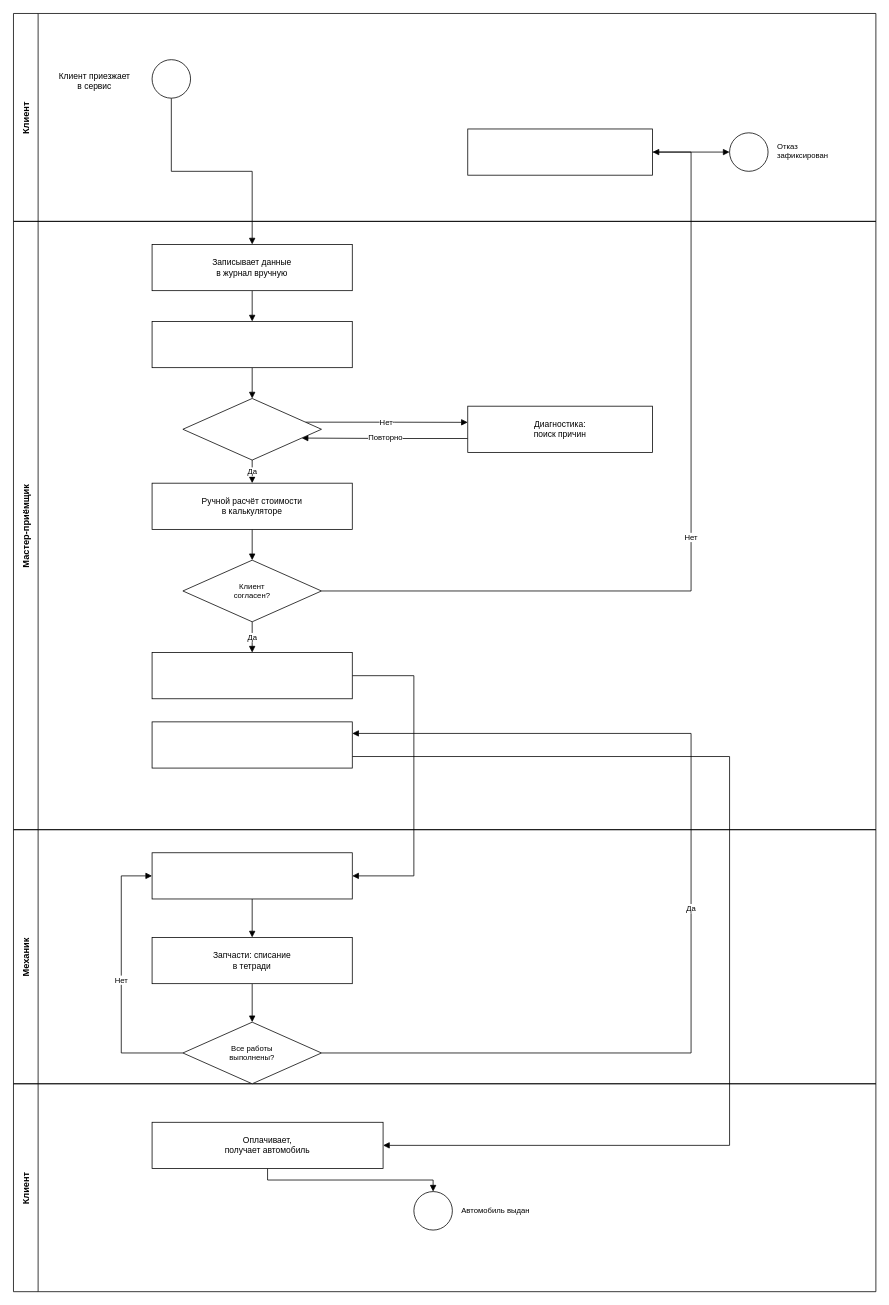
The diagram is 889 pixels wide and 1305 high, and some of its shapes have lost their labels. Here are the shapes that lost their labels. From the top down, the centre of each, then its label:
the point at 560,151: Отказ от работ (уезжает)
the point at 251,344: Осматривает автомобиль, фиксирует жалобы
the point at 251,429: Неисправности понятны?
the point at 251,675: Бумажный наряд: работы в цех
the point at 251,744: Готовит счёт, звонит клиенту
the point at 251,875: Выполняет работы
